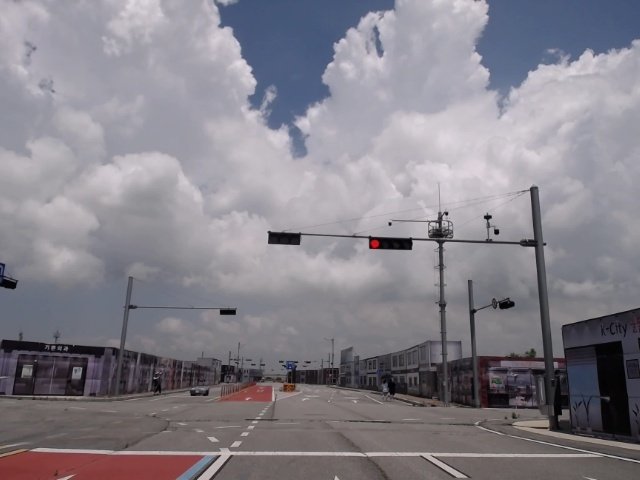red_4: (369, 237, 412, 250)
